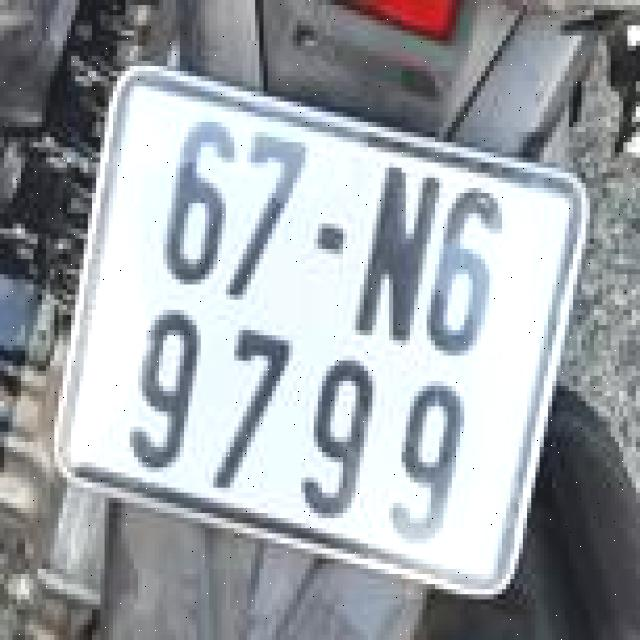6: (155, 104, 230, 287), (431, 178, 502, 360)
7: (213, 318, 297, 496), (240, 115, 312, 308)
9: (382, 376, 470, 564), (128, 302, 207, 480), (304, 356, 374, 534)
N: (343, 145, 435, 343)
